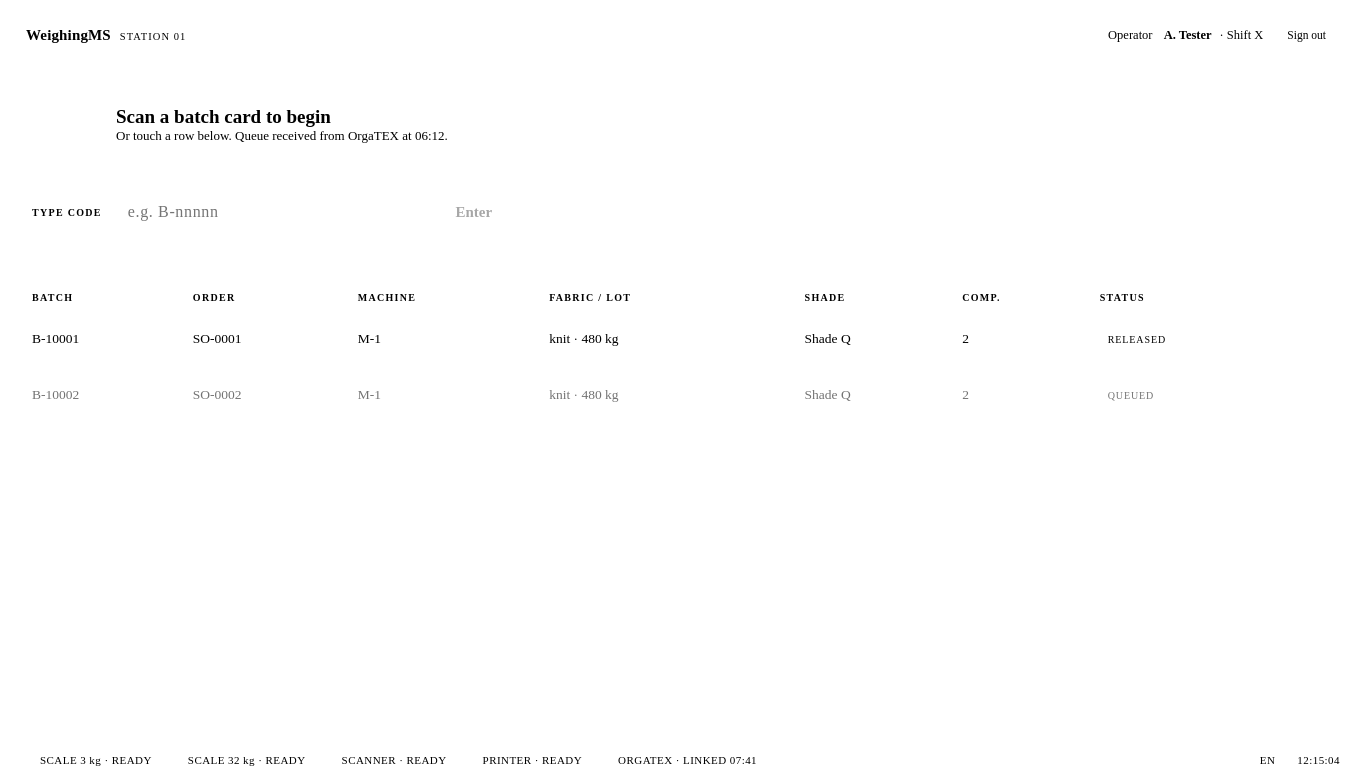
Test: App — the operator flow › Sign out returns to the sign-in screen
The width and height of the screenshot is (1366, 768).
What coordinates should you click on to do the following:
click the button "Sign out"
I would click on:
 (1307, 35)
Its box is [1277, 23, 1336, 47].
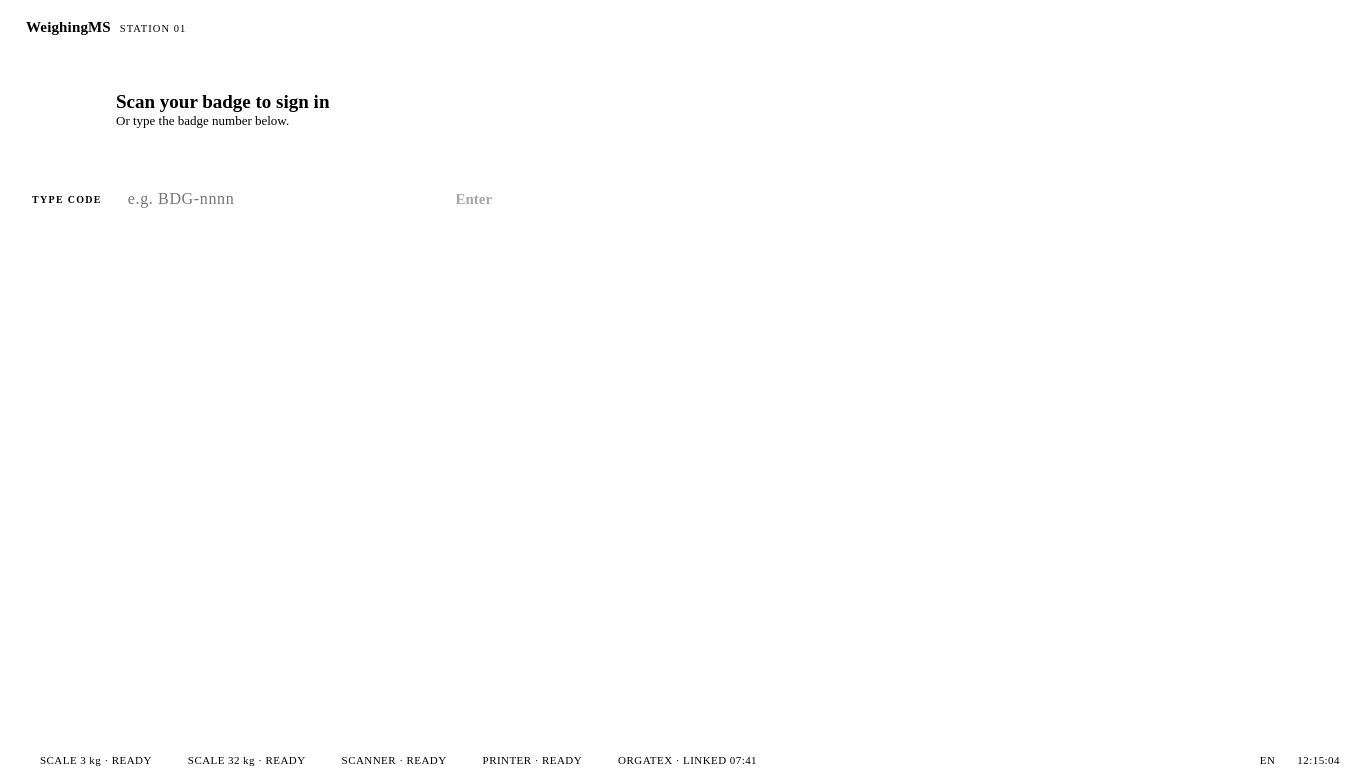
Now the text "Scan your badge to sign in" is shown, box [116, 91, 330, 113]
